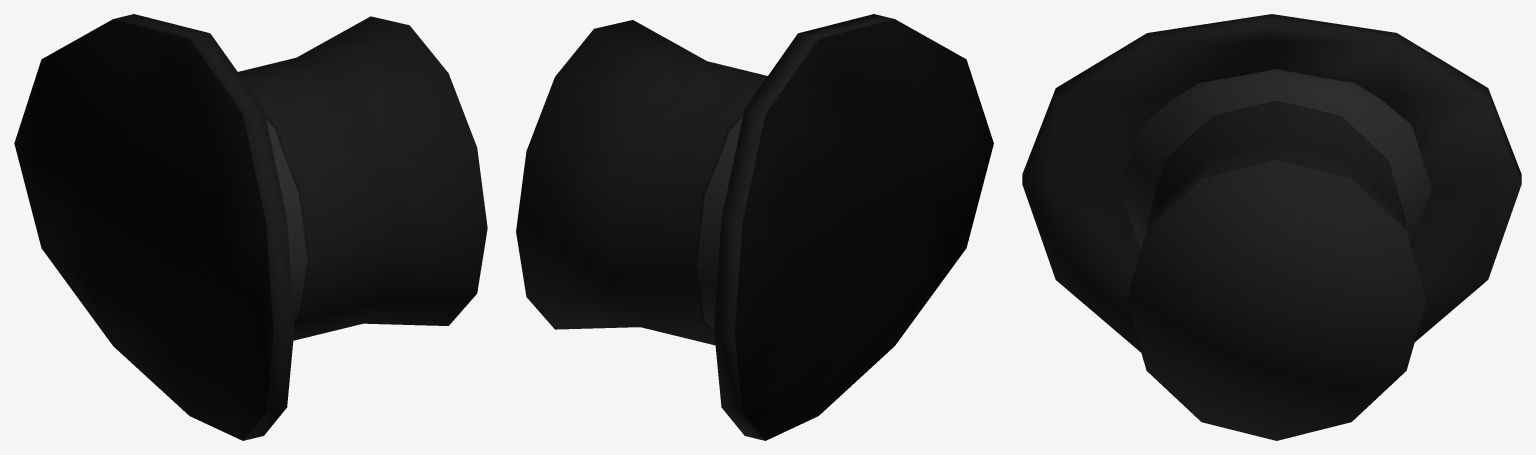
File: TopHat_AZ.fbx
The picture shows the model from 3 angles, left to right: view 1: azimuth 30°, elevation 25°; view 2: azimuth 150°, elevation 25°; view 3: azimuth 270°, elevation 25°; orthographic projection. The views are drawn at different scales.
Visible parts, largest first — view 1: TopHat; view 2: TopHat; view 3: TopHat.
Part boxes in pixels (bbox=[...]): TopHat: bbox=[14, 14, 487, 440]; TopHat: bbox=[516, 14, 993, 440]; TopHat: bbox=[1022, 14, 1521, 440].
Bounding box in the file's own units: 0.139 × 0.1849 × 0.2302.
